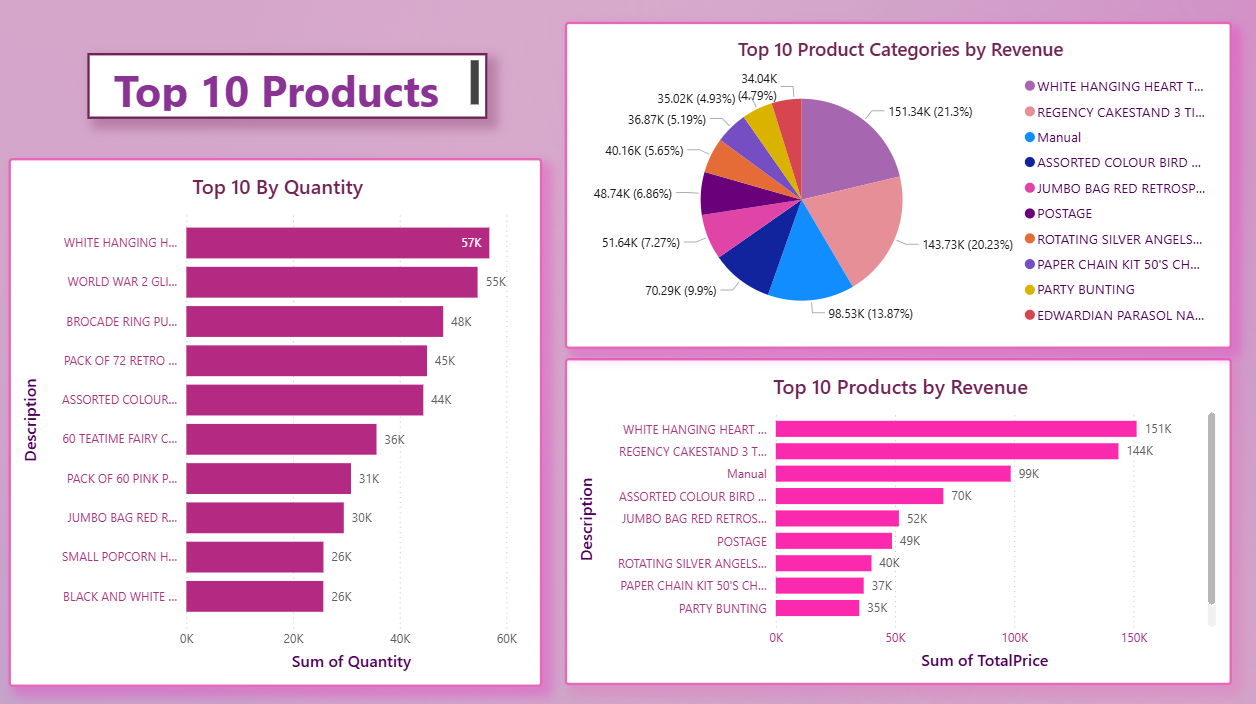

Layout of this report page (visuals, bound fields, positions):
{"tool":"powerbi","page":{"name":"Top_Products","canvas":[1280,720],"ordinal":1},"visuals":[{"type":"barChart","title":"Top 10 By Quantity ","fields":{"Category":["cleaned_online_retail.Description"],"Y":["Sum(cleaned_online_retail.Quantity)"]},"box":[17.4,169.2,531.2,526.2],"z":0},{"type":"clusteredBarChart","title":"Top 10 Products by Revenue","fields":{"Category":["cleaned_online_retail.Description"],"Y":["Sum(cleaned_online_retail.TotalPrice)"]},"box":[571.4,368.8,663.6,326],"z":1000},{"type":"pieChart","title":"Top 10 Product Categories by Revenue","fields":{"Category":["cleaned_online_retail.Description"],"Y":["Sum(cleaned_online_retail.TotalPrice)"]},"box":[571.4,33.8,663.6,326],"z":2000},{"type":"textbox","box":[95.8,64.7,398.1,65.9],"z":3000}]}

Visuals, with their boxes in screenshot pixels (x1, y1, x2, y2), scaled from the page's 1280x720 canvas onto the 1256x704 screenshot:
"Top 10 By Quantity " barChart: <region>17, 165, 538, 680</region>
"Top 10 Products by Revenue" clusteredBarChart: <region>561, 361, 1212, 679</region>
"Top 10 Product Categories by Revenue" pieChart: <region>561, 33, 1212, 352</region>
textbox: <region>94, 63, 485, 128</region>
